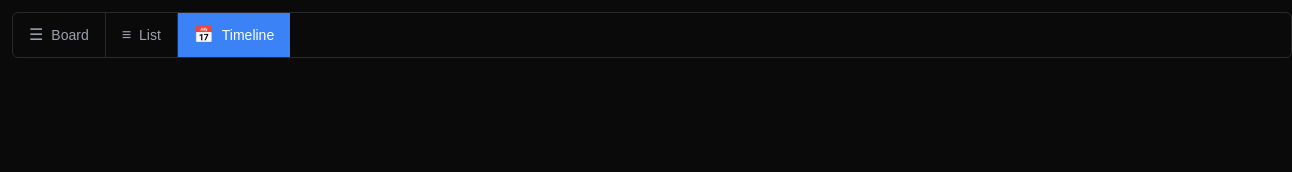
Test case: ViewSwitcher › keyboard shortcuts › should switch to timeline view with Cmd+T
Switch to board first
Click the tab "☰ Board" at {"x": 59, "y": 35}, box [13,13,106,57]
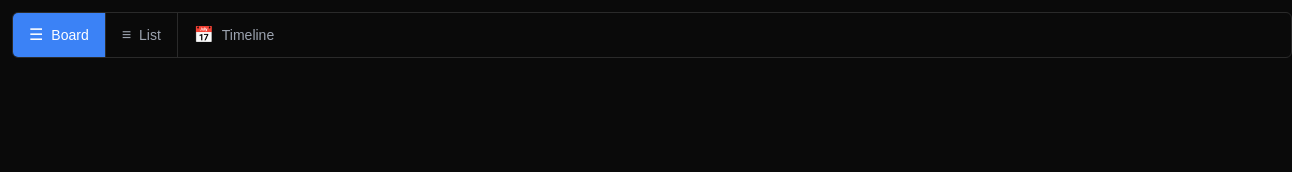
Then switch back to timeline with keyboard
Press t
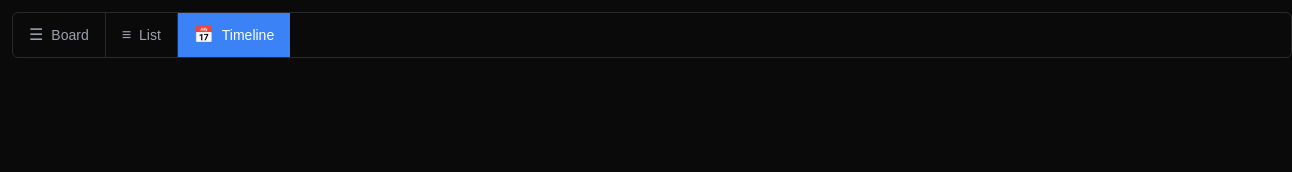
expect the tab "📅 Timeline" is selected: met, box [178,13,290,57]
